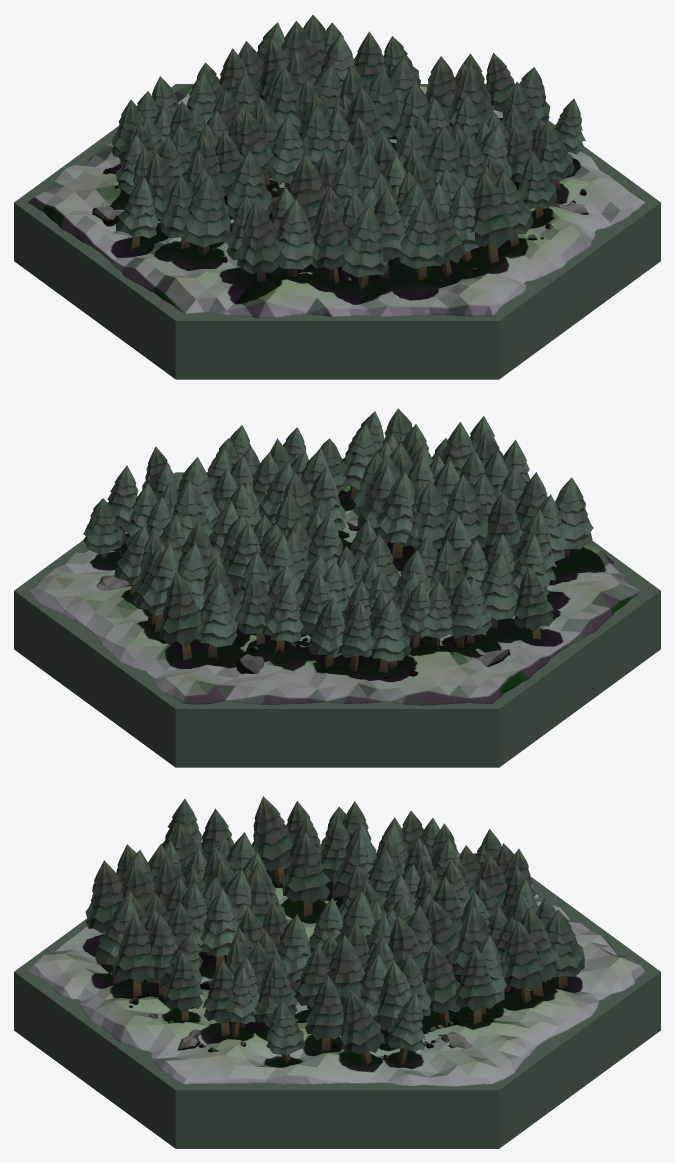
Rendered from forest.glb.
3 views of the same model, one above another, from view 1: azimuth 30°, elevation 25°; view 2: azimuth 150°, elevation 25°; view 3: azimuth 270°, elevation 25° (orthographic).
Visible parts, largest first — view 1: Circle_007; view 2: Circle_007; view 3: Circle_007.
Boxes of the visible parts, bbox=[...] form: Circle_007: bbox=[14, 15, 660, 379]; Circle_007: bbox=[14, 408, 660, 767]; Circle_007: bbox=[14, 796, 660, 1148].
Size of the model in its own units: 17.32 by 5.53 by 20.
7 materials, 6 textured.
